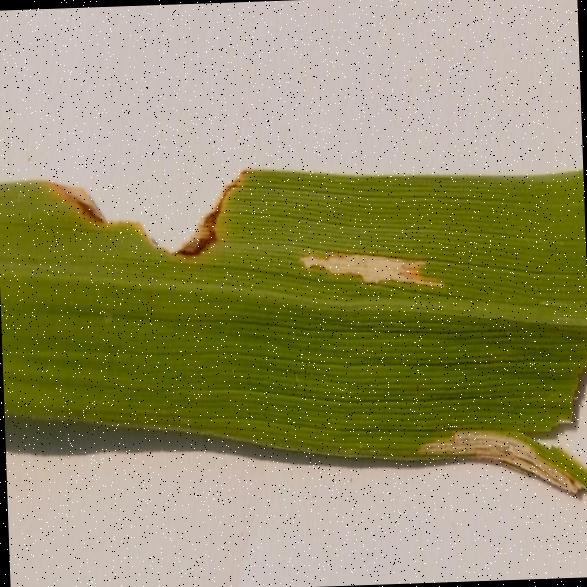Bacteria_Leaf_Blight: (264, 193, 518, 377)
